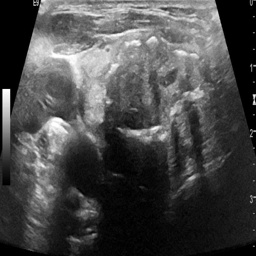mass: (69, 50, 184, 131)
